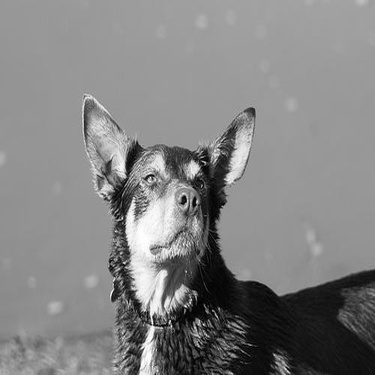dog: (77, 83, 370, 369)
